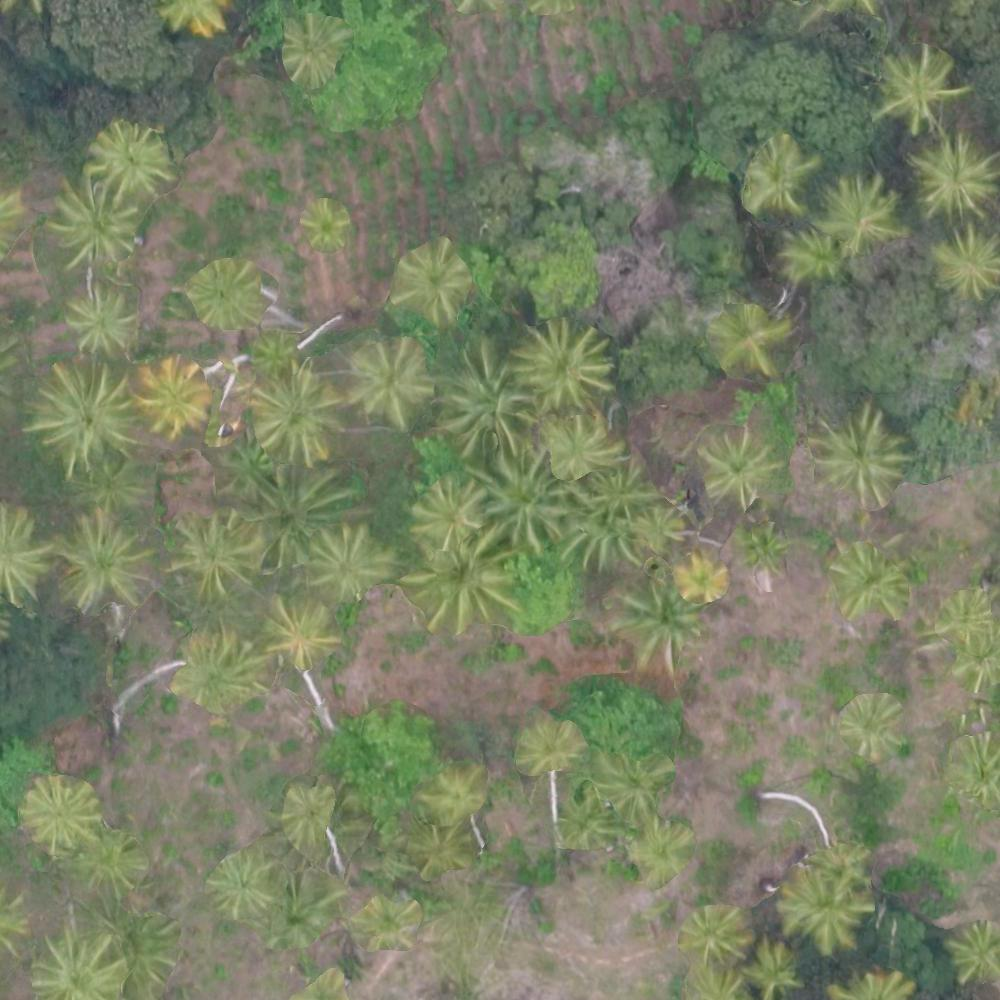Palm: (409, 532, 518, 635), (30, 361, 133, 462), (440, 341, 531, 449), (53, 513, 150, 607), (816, 409, 911, 502), (518, 318, 612, 410), (480, 451, 572, 542), (251, 369, 338, 458), (51, 177, 142, 262), (351, 335, 437, 419), (907, 136, 994, 219), (781, 865, 870, 946), (814, 169, 901, 247), (878, 47, 961, 128), (30, 932, 131, 998), (179, 629, 258, 710), (92, 123, 171, 202), (616, 576, 694, 656), (305, 527, 397, 594), (19, 774, 98, 852), (394, 241, 474, 318), (174, 514, 255, 590), (262, 591, 336, 673), (699, 427, 778, 501), (136, 357, 211, 433), (411, 478, 488, 548), (932, 223, 1000, 302), (711, 302, 786, 372), (541, 411, 622, 473), (63, 285, 133, 354), (593, 742, 663, 810), (190, 260, 260, 327), (832, 544, 904, 608), (280, 17, 348, 84), (747, 140, 814, 207), (836, 693, 904, 758), (678, 904, 749, 960), (942, 918, 1000, 985), (779, 229, 847, 286), (518, 715, 582, 774), (627, 816, 691, 875), (743, 939, 804, 999), (210, 856, 272, 914), (279, 782, 333, 848), (419, 764, 483, 817), (947, 734, 1000, 796), (297, 199, 355, 252)
